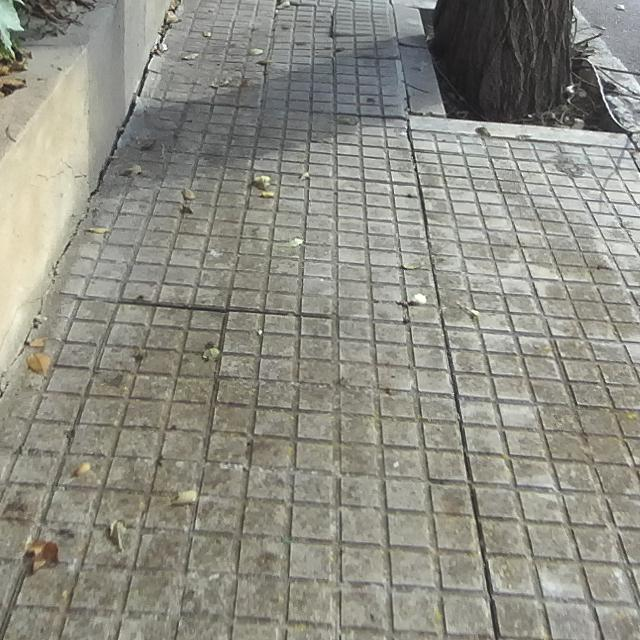calcada_quebrada: (545, 146, 589, 180), (471, 124, 502, 145)
